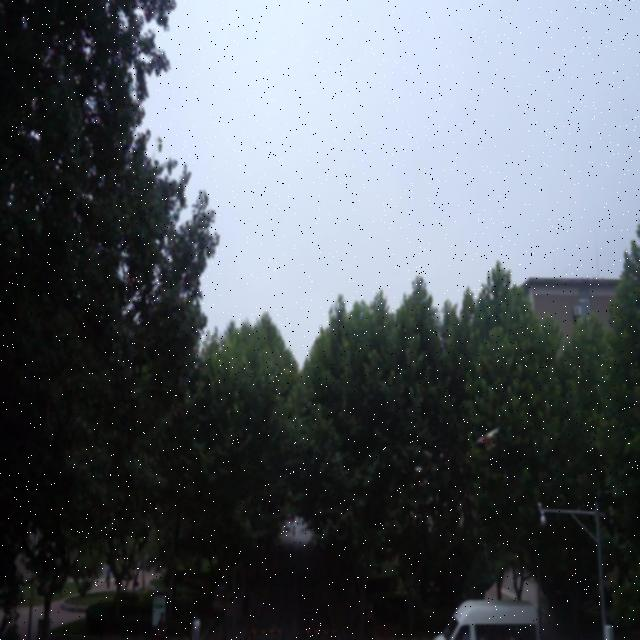UAV: (476, 427, 501, 450)
